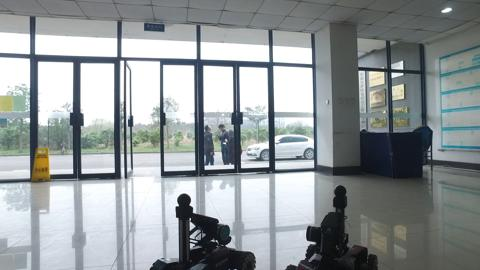chariot: (284, 180, 381, 269), (147, 194, 258, 268)
